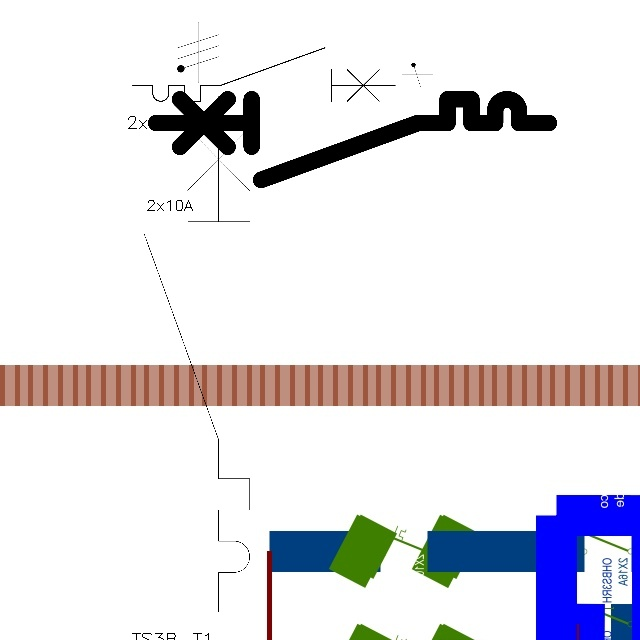interruptor_termomagnetico: (131, 83, 263, 624), (146, 89, 559, 190), (126, 41, 402, 108)
